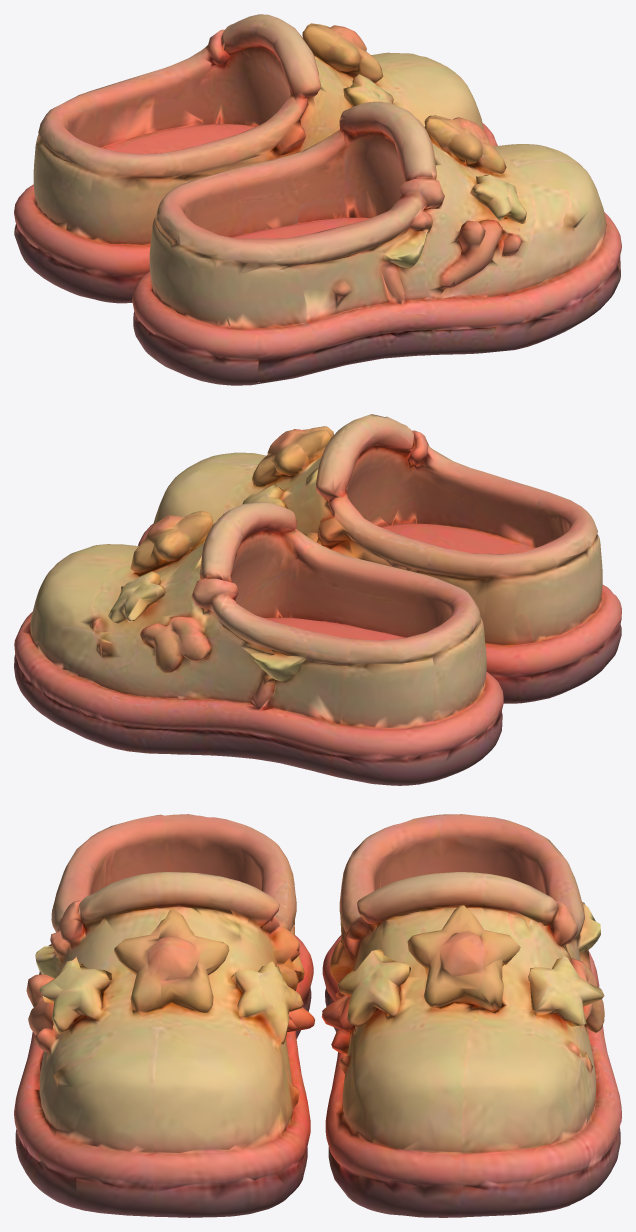
The model's file is acc_shoes_party_01.glb.
3 views of the same model, one above another, from view 1: azimuth 30°, elevation 25°; view 2: azimuth 150°, elevation 25°; view 3: azimuth 270°, elevation 25° (orthographic). The views are drawn at different scales.
Visible parts, largest first — view 1: acc_shoes_party_01; view 2: acc_shoes_party_01; view 3: acc_shoes_party_01.
Part boxes in pixels (<box>): acc_shoes_party_01: <box>14,14,621,385</box>; acc_shoes_party_01: <box>14,414,621,785</box>; acc_shoes_party_01: <box>14,814,621,1217</box>.
Bounding box in the file's own units: 0.3591 × 0.16 × 0.3488.
Materials: 1 (1 with a texture image).
